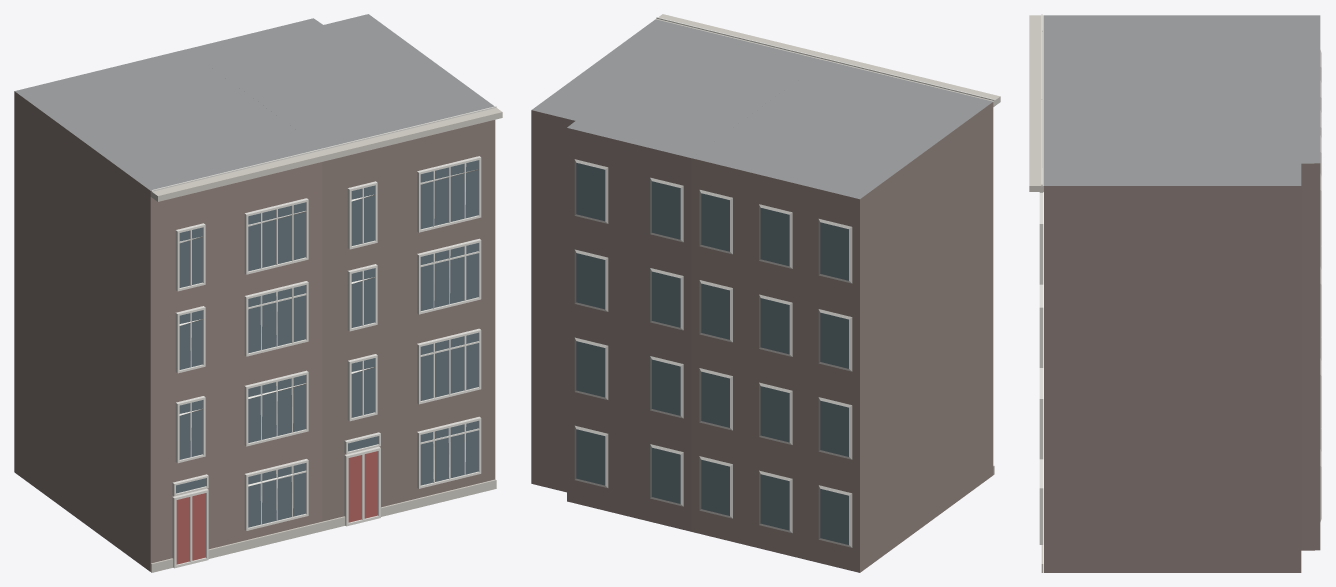
The model's file is chunk-face-retief-194-268-r1.lod2.glb.
3 renders of one model, left to right at view 1: azimuth 30°, elevation 25°; view 2: azimuth 150°, elevation 25°; view 3: azimuth 270°, elevation 25°, orthographic. The views are drawn at different scales.
Parts seen in each view (by area): view 1: lod2; view 2: lod2; view 3: lod2.
Boxes of the visible parts, x1,y1,x2,y2 form: lod2: (14, 14, 502, 572); lod2: (531, 14, 1000, 572); lod2: (1029, 14, 1321, 572).
Bounding box in the file's own units: 12.33 × 13.08 × 8.93.
